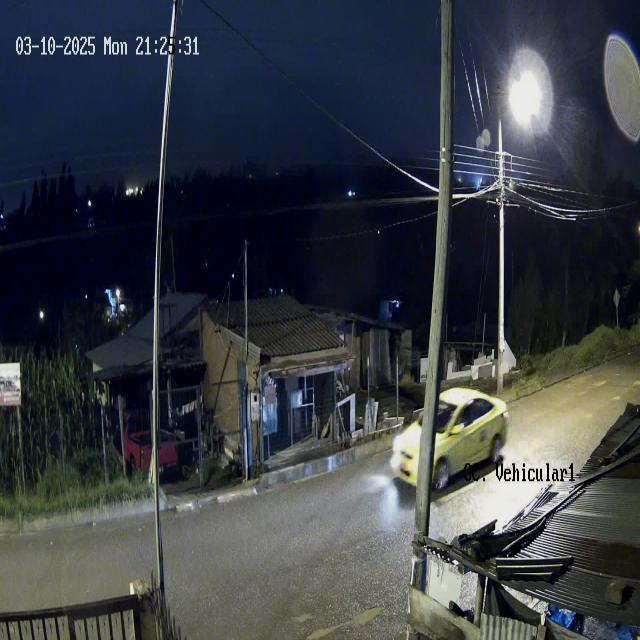SED: (390, 384, 511, 496)
